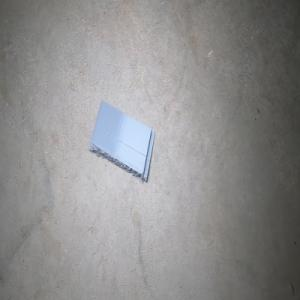PlasticPart: (89, 100, 155, 183)
